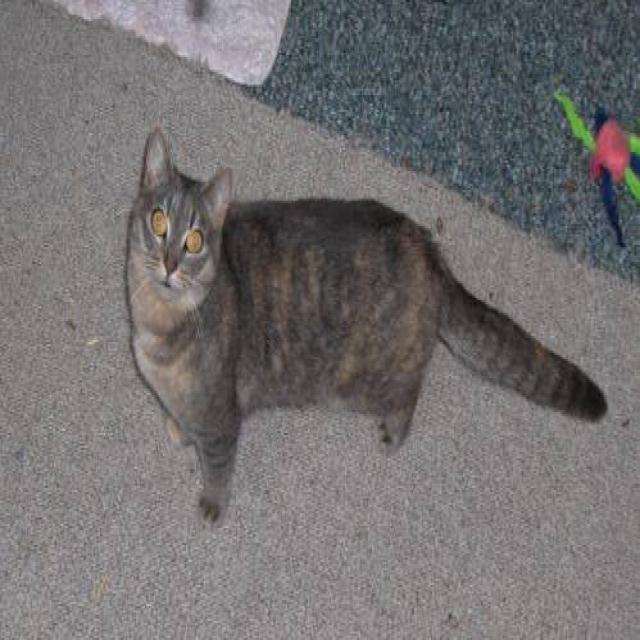cat: (123, 124, 608, 524)
